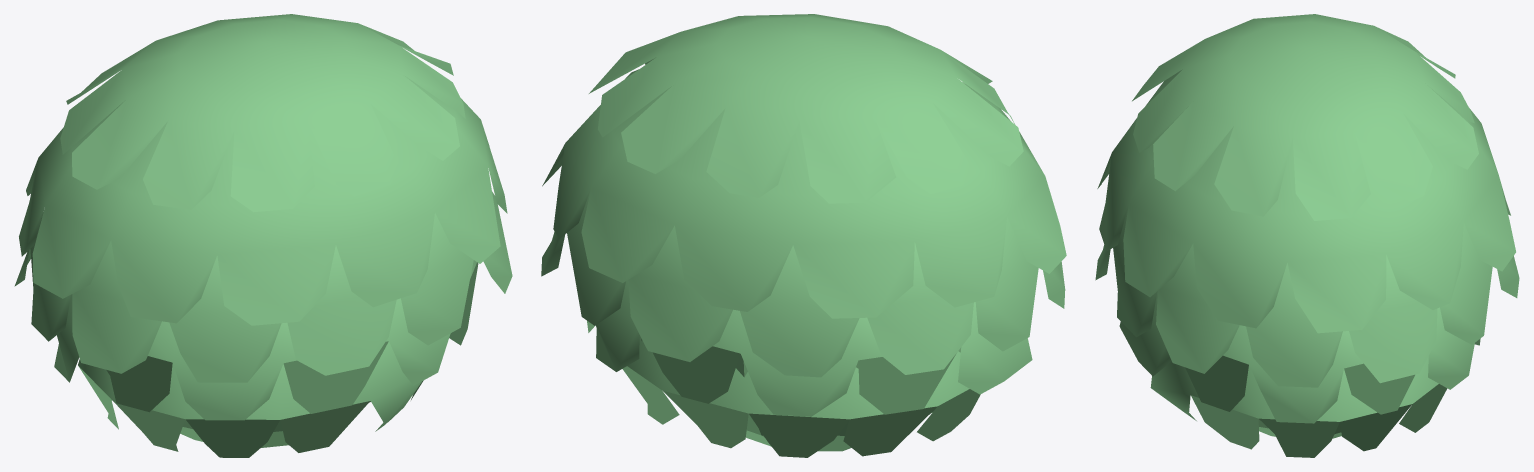
The model's file is Bush1.004.fbx.
3 renders of one model, left to right at view 1: azimuth 30°, elevation 25°; view 2: azimuth 150°, elevation 25°; view 3: azimuth 270°, elevation 25°, orthographic. The views are drawn at different scales.
Parts seen in each view (by area): view 1: Bush1.004; view 2: Bush1.004; view 3: Bush1.004.
Part boxes in pixels (x1,y1,x2,y2): Bush1.004: (14, 14, 512, 457); Bush1.004: (541, 14, 1066, 457); Bush1.004: (1095, 14, 1519, 457).
Bounding box in the file's own units: 144 × 115 × 117.
